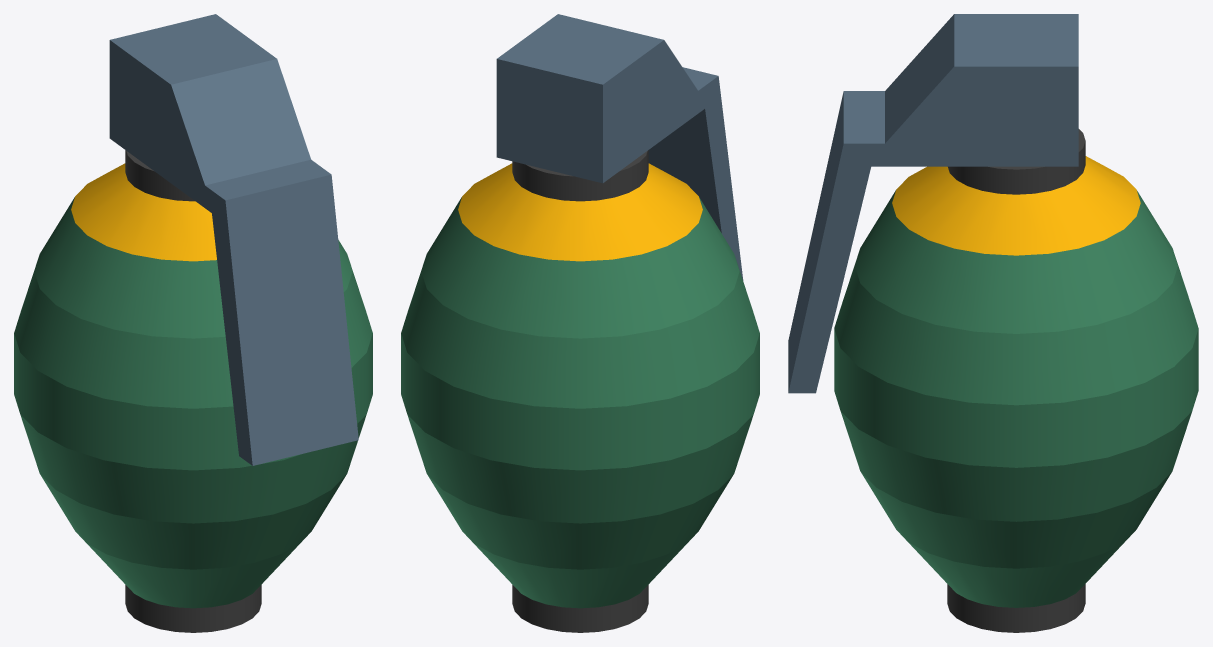
Rendered from grenade.fbx.
3 renders of one model, left to right at view 1: azimuth 30°, elevation 25°; view 2: azimuth 150°, elevation 25°; view 3: azimuth 270°, elevation 25°, orthographic.
Parts seen in each view (by area): view 1: grenade, grip; view 2: grenade, grip; view 3: grenade, grip.
Boxes of the visible parts, left/top/right/bottom form: grenade: left=14, top=150, right=372, bottom=632; grip: left=109, top=14, right=358, bottom=465; grenade: left=401, top=150, right=759, bottom=632; grip: left=496, top=14, right=743, bottom=280; grenade: left=834, top=129, right=1198, bottom=632; grip: left=788, top=14, right=1078, bottom=393.
Size of the model in its own units: 1.01 by 1.72 by 1.14.
